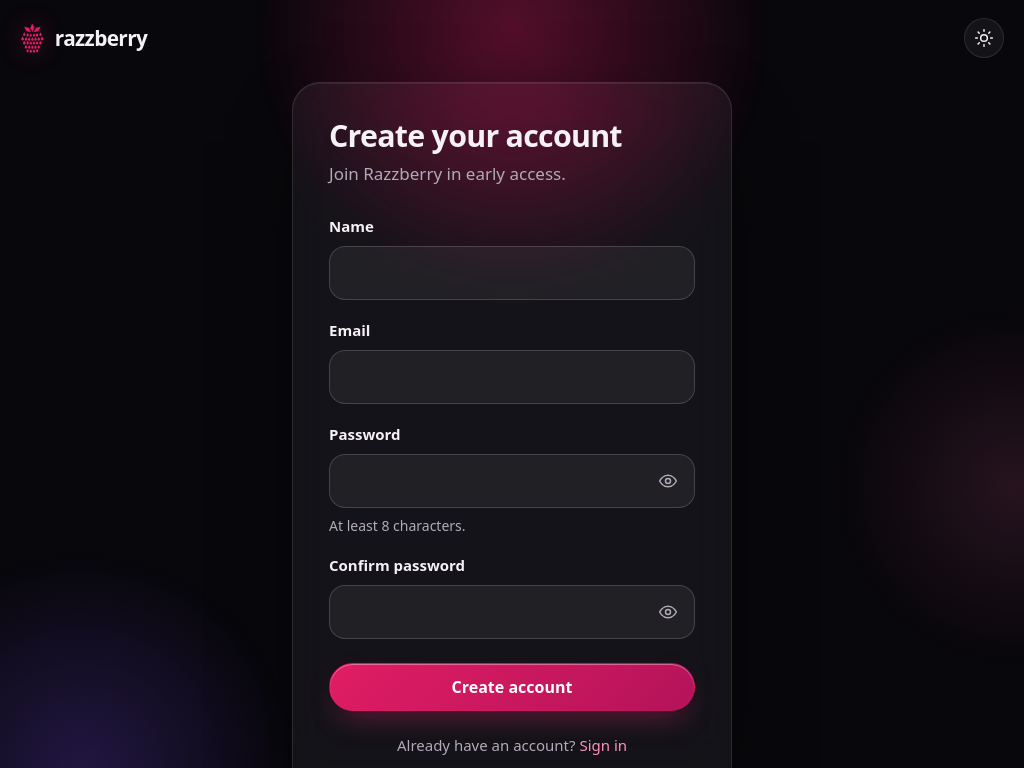
Scenario: sign up › validates name, email, password length and confirmation
This screenshot has width=1024, height=768.
Click the button "Create account".
click(512, 687)  # box [329,663,695,711]
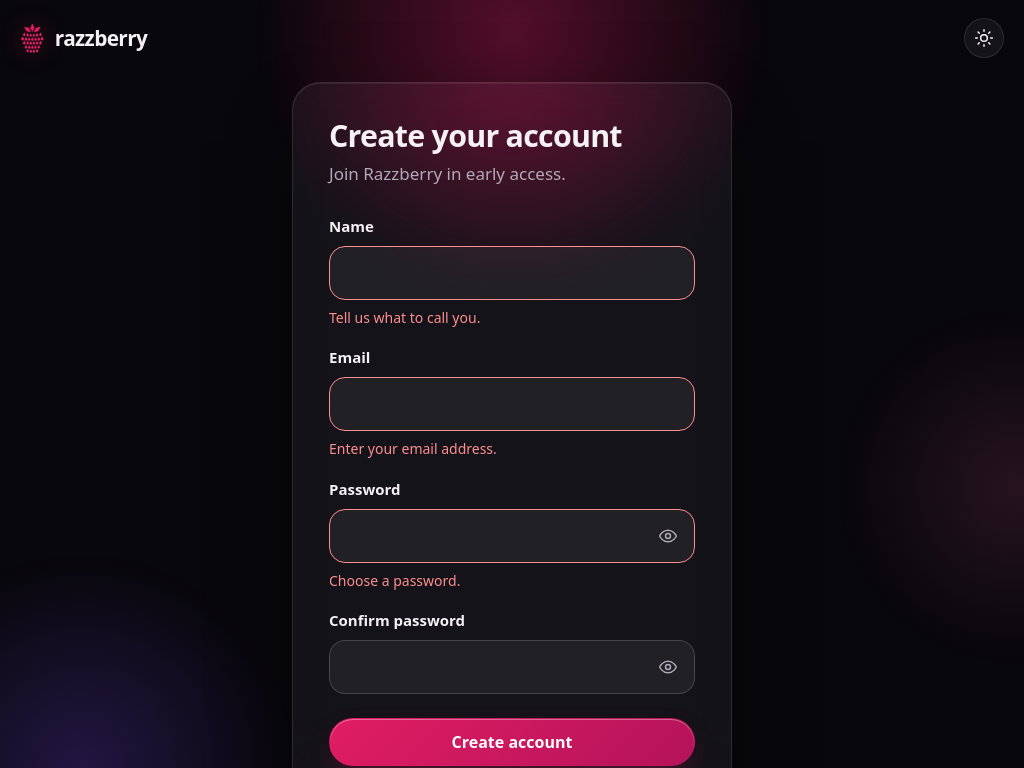
expect the text "Tell us what to call you." is shown: met, box [329,308,480,327]
expect the text "Choose a password." is shown: met, box [329,571,460,590]
Type "Ada" into the field labelled "Name".
click(512, 273); type("Ada")  # box [329,246,695,300]
Type "ada@example.com" into the field labelled "Email".
click(512, 404); type("ada@example.com")  # box [329,377,695,431]
Type "short" into the password field labelled "Password".
click(512, 536); type("short")  # box [329,509,695,563]
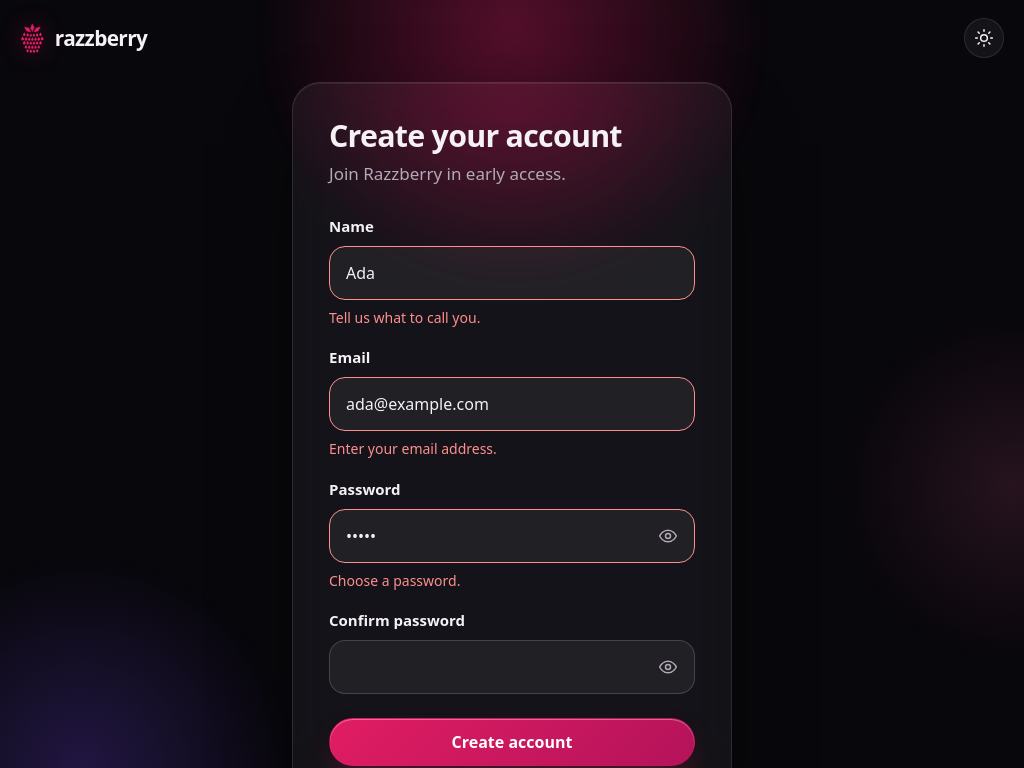
Click the button "Create account".
click(512, 742)  # box [329,718,695,766]
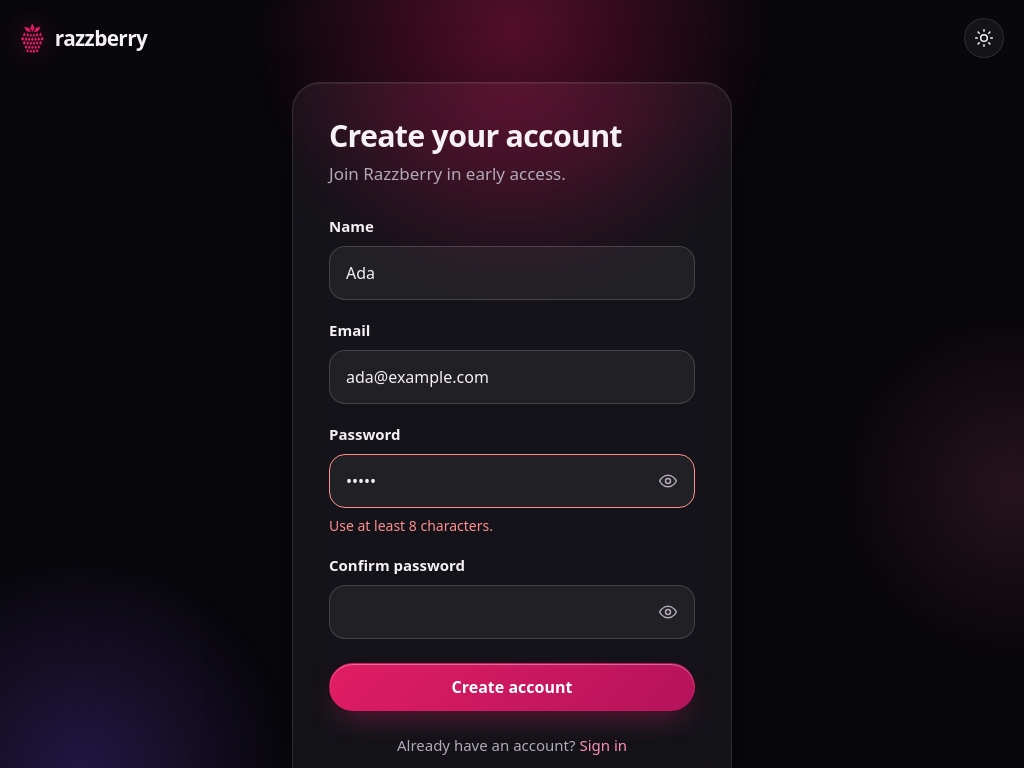
expect the text "Use at least 8 characters." is shown: met, box [329,516,493,535]
Type "long-enough-1" into the password field labelled "Password".
click(512, 481); type("long-enough-1")  # box [329,454,695,508]
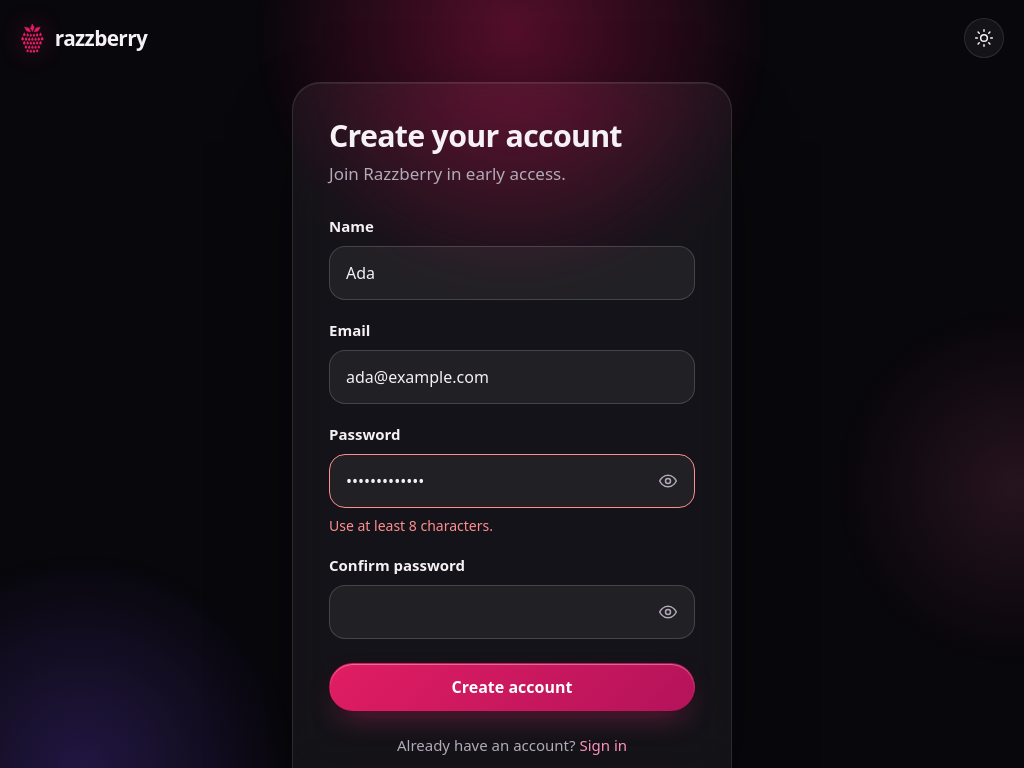
Type "different-1" into the password field labelled "Confirm password".
click(512, 612); type("different-1")  # box [329,585,695,639]
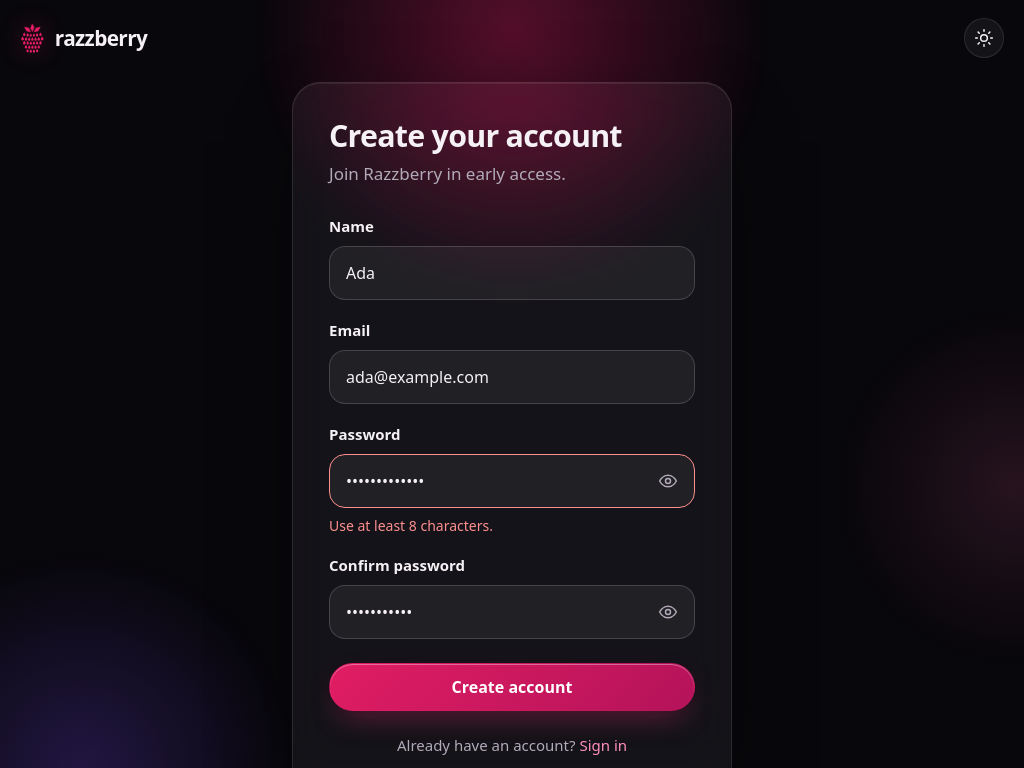
Click the button "Create account".
click(512, 687)  # box [329,663,695,711]
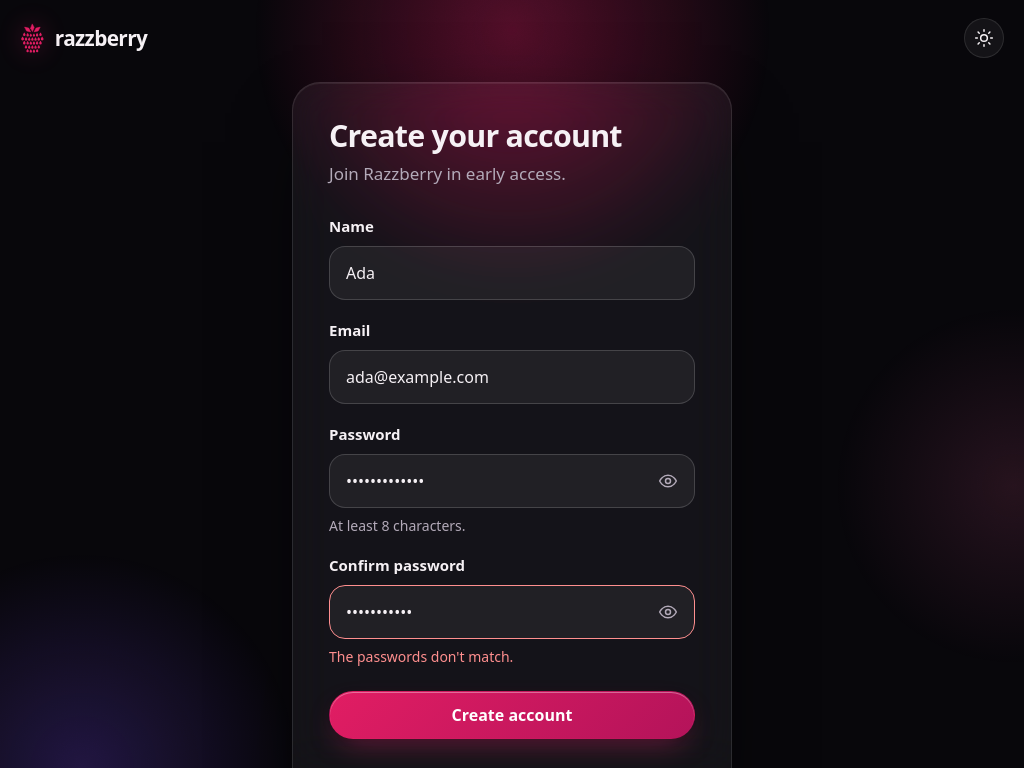
expect the text "The passwords don't match." is shown: met, box [329,647,513,666]
